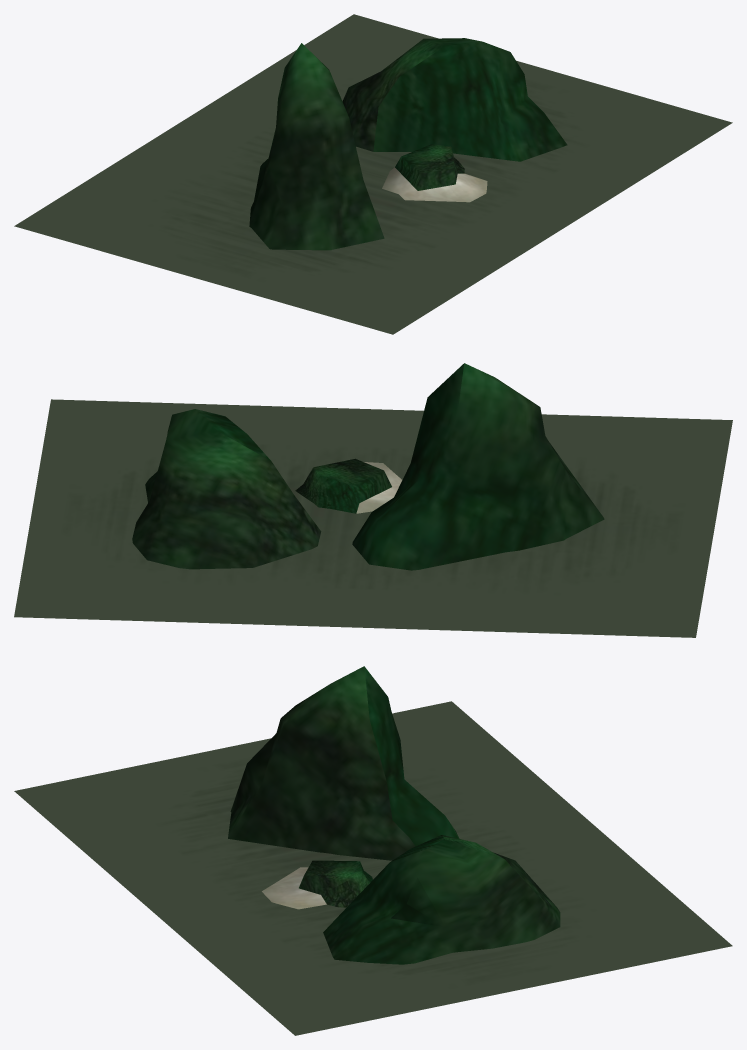
Rendered from pir_m_are_isl_perdida_worldmap.fbx.
The picture shows the model from 3 angles, top to bottom: view 1: azimuth 30°, elevation 25°; view 2: azimuth 150°, elevation 25°; view 3: azimuth 270°, elevation 25°; orthographic projection. The views are drawn at different scales.
Parts seen in each view (by area): view 1: sketchmark, topmesh_2, topmesh_1, topmesh_0, topmesh_3; view 2: sketchmark, topmesh_1, topmesh_2, topmesh_0, topmesh_3; view 3: sketchmark, topmesh_1, topmesh_2, topmesh_0, topmesh_3.
Boxes of the visible parts, <box> form: sketchmark: <box>14,14,732,334</box>; topmesh_2: <box>342,38,567,161</box>; topmesh_1: <box>249,43,384,250</box>; topmesh_0: <box>395,144,464,190</box>; topmesh_3: <box>382,167,487,202</box>; sketchmark: <box>14,399,732,637</box>; topmesh_1: <box>352,363,604,570</box>; topmesh_2: <box>132,409,321,569</box>; topmesh_0: <box>295,458,391,513</box>; topmesh_3: <box>356,462,402,513</box>; sketchmark: <box>14,701,732,1035</box>; topmesh_1: <box>228,666,459,860</box>; topmesh_2: <box>323,835,560,964</box>; topmesh_0: <box>299,860,372,907</box>; topmesh_3: <box>262,867,326,909</box>.
Bounding box in the file's own units: 40.29 × 9.39 × 36.58.
Materials: 2 (2 with a texture image).
